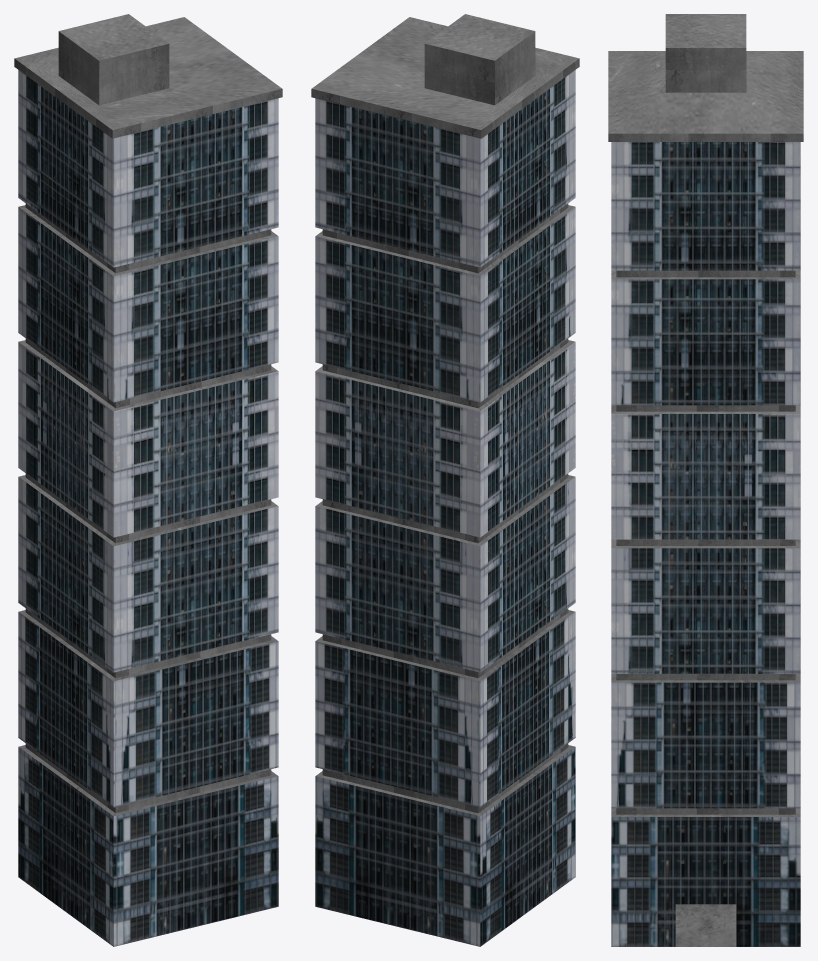
The model's file is TOWER_09.fbx.
The picture shows the model from 3 angles, left to right: view 1: azimuth 30°, elevation 25°; view 2: azimuth 150°, elevation 25°; view 3: azimuth 270°, elevation 25°; orthographic projection.
Visible parts, largest first — view 1: TOWER_09; view 2: TOWER_09; view 3: TOWER_09.
Boxes of the visible parts, bbox=[...] form: TOWER_09: bbox=[14, 14, 282, 946]; TOWER_09: bbox=[311, 14, 579, 946]; TOWER_09: bbox=[608, 14, 803, 946].
Size of the model in its own units: 1390 by 6746 by 1390.
